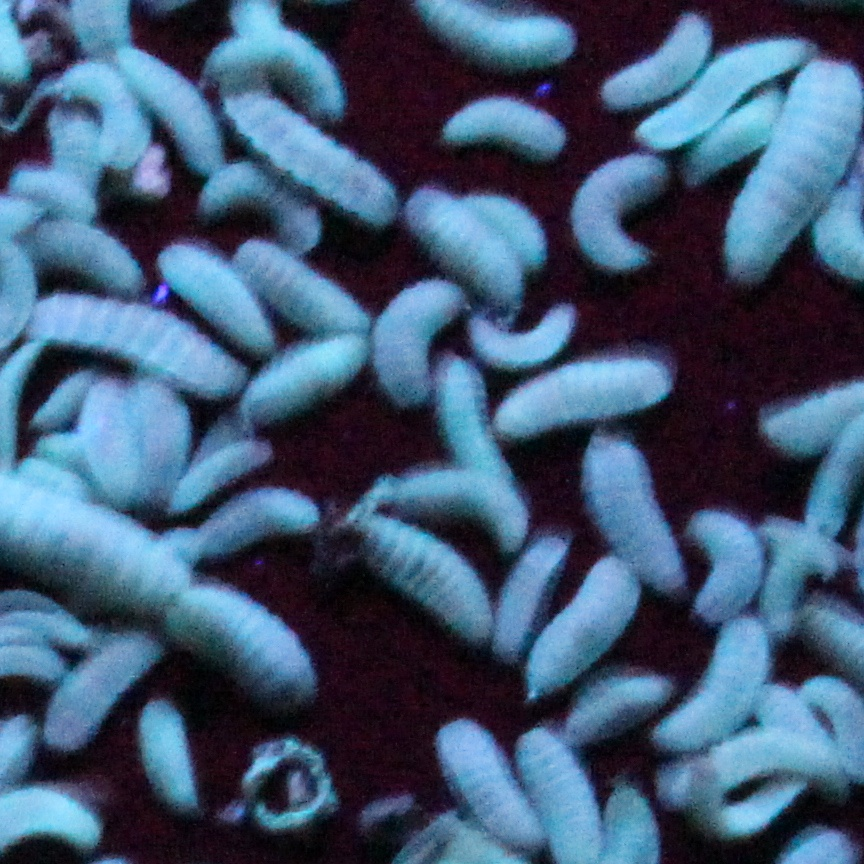larve: (725, 62, 858, 272), (35, 296, 227, 396), (237, 97, 392, 218), (180, 582, 315, 707), (355, 519, 488, 635), (662, 35, 801, 144), (585, 436, 679, 585), (55, 625, 160, 754), (530, 566, 640, 688), (506, 356, 669, 438), (119, 51, 226, 173), (237, 240, 374, 335), (409, 192, 524, 303), (670, 626, 774, 743), (438, 723, 531, 844), (168, 243, 271, 352), (573, 152, 660, 275), (247, 334, 369, 419), (663, 746, 852, 798), (205, 42, 344, 112), (602, 10, 704, 104), (65, 67, 151, 176), (207, 171, 320, 251), (493, 535, 568, 652), (178, 431, 275, 519), (125, 382, 195, 503), (381, 476, 526, 534), (133, 697, 203, 816), (434, 96, 566, 158), (684, 511, 759, 620), (82, 379, 150, 493), (571, 672, 673, 745), (677, 773, 805, 831), (37, 221, 141, 291), (442, 366, 504, 480), (383, 290, 447, 395), (41, 101, 99, 196), (186, 498, 317, 540), (471, 316, 571, 361), (41, 371, 86, 424)
